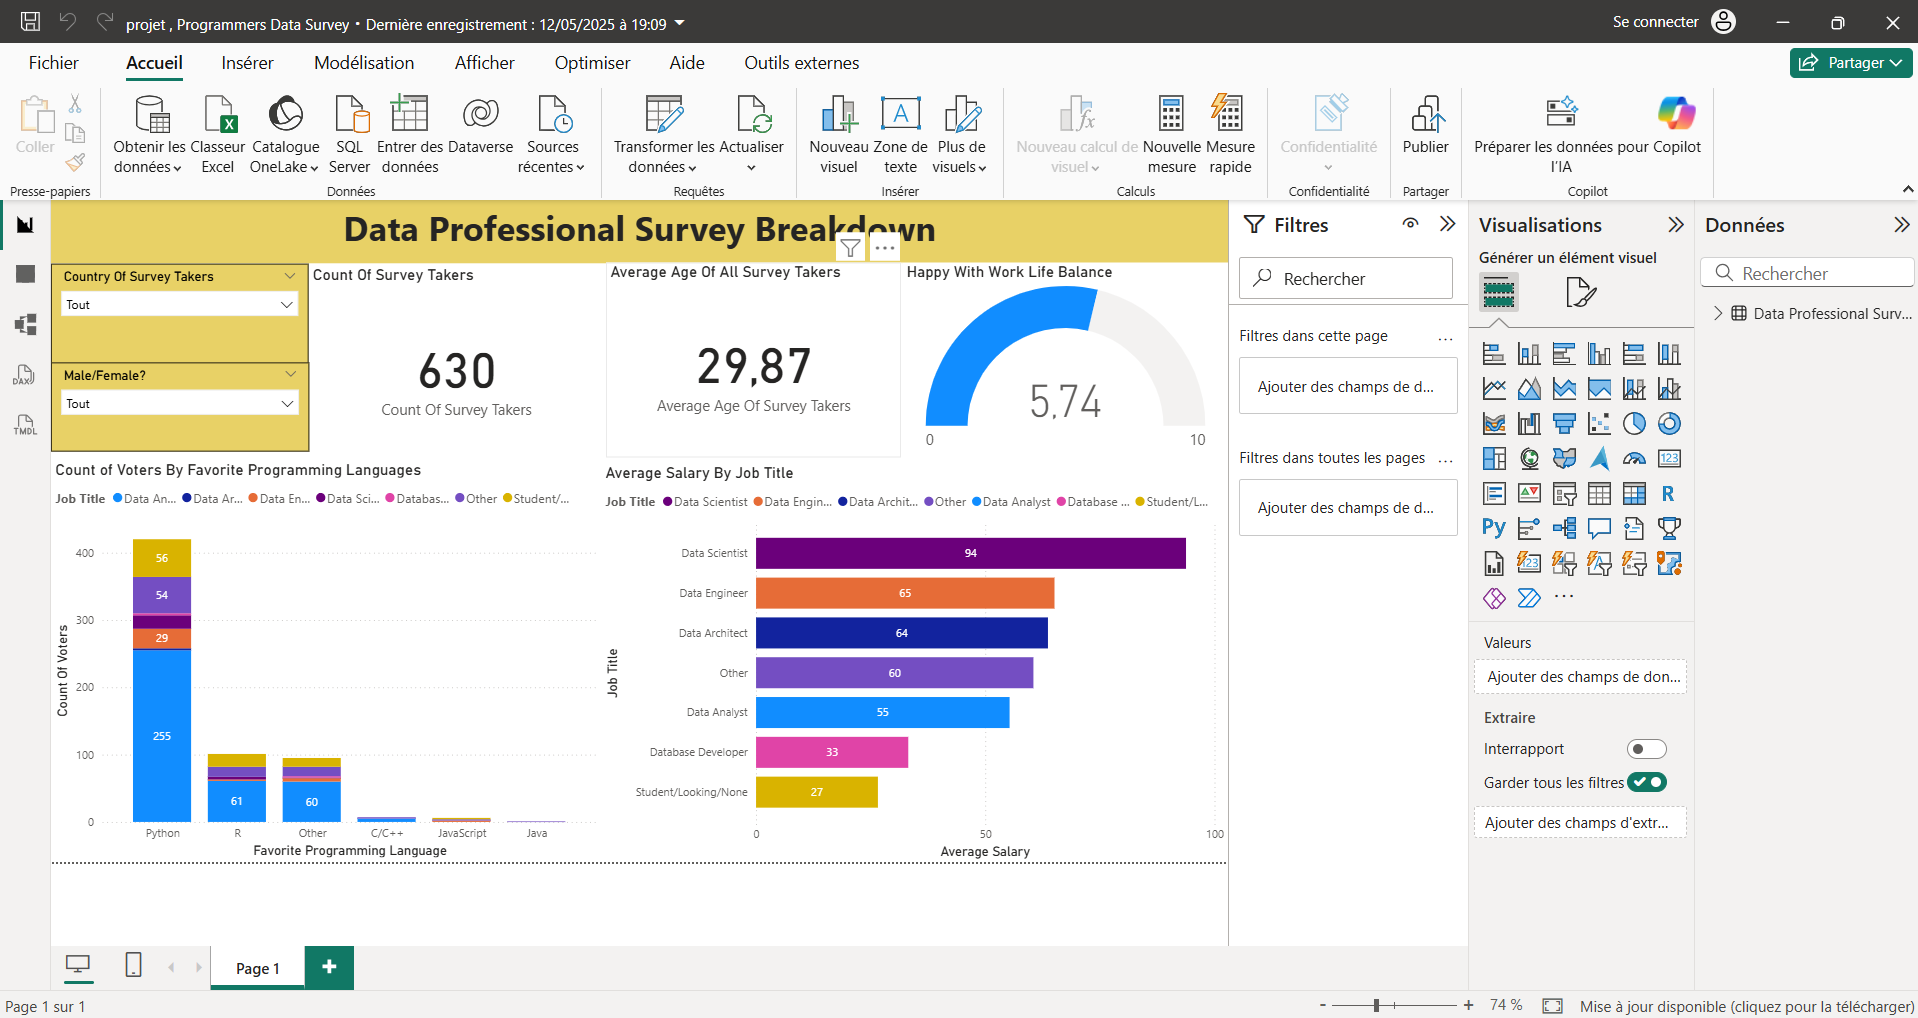

The dashboard page shown, as its layout file describes it:
{"tool":"powerbi","page":{"name":"Page 1","canvas":[1280,720],"ordinal":0},"visuals":[{"type":"textbox","box":[0,0,1280.6,68.6],"z":0},{"type":"card","title":"Count Of Survey Takers","fields":{"Values":["CountNonNull(Data Professional Survey.Unique ID)"]},"box":[280.4,70.5,322.4,215.9],"z":1000},{"type":"card","title":"Average Age Of All Survey Takers","fields":{"Values":["Avg(Data Professional Survey.Q10 - Current Age)"]},"box":[602.9,67.9,321.8,211.8],"z":2000},{"type":"barChart","title":"Average Salary By Job Title","fields":{"Category":["Data Professional Survey.Q1 - Which Title Best Fits your Current Role?.1"],"Y":["Avg(Data Professional Survey.Average Salary)"],"Series":["Data Professional Survey.Q1 - Which Title Best Fits your Current Role?.1"]},"box":[598.3,286.4,682.3,434.9],"z":3000},{"type":"columnChart","title":"Count of Voters By Favorite Programming Languages","fields":{"Category":["Data Professional Survey.Q5 - Favorite Programming Language.1"],"Y":["CountNonNull(Data Professional Survey.Unique ID)"],"Series":["Data Professional Survey.Q1 - Which Title Best Fits your Current Role?.1"]},"box":[0,282.5,598.9,437.3],"z":4000},{"type":"slicer","fields":{"Values":["Data Professional Survey.Q11 - Which Country do you live in?.1"]},"box":[0,69.3,279.7,108.6],"z":5000},{"type":"gauge","title":"Happy With Work Life Balance","fields":{"Y":["Avg(Data Professional Survey.Q6 - How Happy are you in your Current Position with the following? (Work/Life Balance))"],"MinValue":["Min(Data Professional Survey.Q6 - How Happy are you in your Current Position with the following? (Work/Life Balance))"],"MaxValue":["Max(Data Professional Survey.Q6 - How Happy are you in your Current Position with the following? (Work/Life Balance))1"]},"box":[925.2,67.5,355.4,214.4],"z":6000},{"type":"slicer","fields":{"Values":["Data Professional Survey.Q9 - Male/Female?"]},"box":[0,177.2,280.5,97.1],"z":6001}]}

Visuals, with their boxes on the page's 1280x720 design canvas (x1, y1, x2, y2). These are canvas units, not pixel positions in the 1918x1018 screenshot, which may show the page scaled, cropped or inside an application window:
textbox: [left=0, top=0, right=1281, bottom=69]
"Count Of Survey Takers" card: [left=280, top=70, right=603, bottom=286]
"Average Age Of All Survey Takers" card: [left=603, top=68, right=925, bottom=280]
"Average Salary By Job Title" barChart: [left=598, top=286, right=1281, bottom=721]
"Count of Voters By Favorite Programming Languages" columnChart: [left=0, top=282, right=599, bottom=720]
slicer - Data Professional Survey.Q11 - Which Country do you live in?.1: [left=0, top=69, right=280, bottom=178]
"Happy With Work Life Balance" gauge: [left=925, top=68, right=1281, bottom=282]
slicer - Data Professional Survey.Q9 - Male/Female?: [left=0, top=177, right=280, bottom=274]
